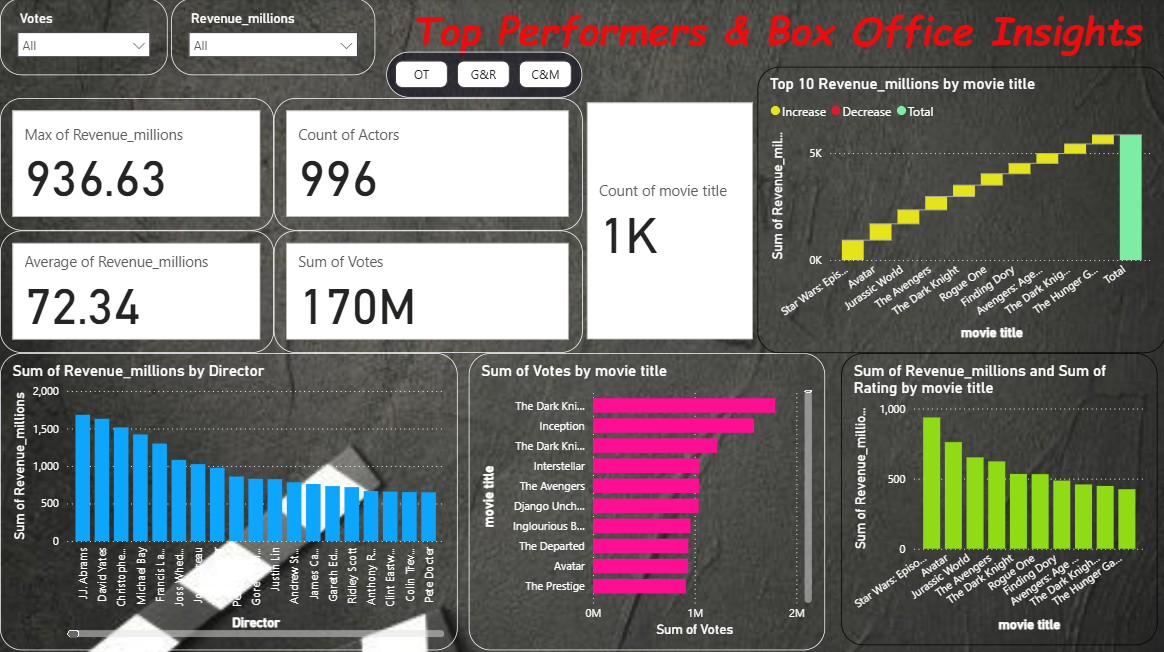

What the dashboard file says about the page in this screenshot:
{"tool":"powerbi","page":{"name":"P&B","canvas":[1280,720],"ordinal":2},"visuals":[{"type":"textbox","box":[425.4,0,854.9,90.6],"z":0},{"type":"clusteredColumnChart","fields":{"Y":["IMDB-Movie-Data.Revenue_millions"],"Category":["IMDB-Movie-Data.Director"]},"box":[0,389.7,502.2,326.6],"z":1000},{"type":"barChart","fields":{"Y":["IMDB-Movie-Data.Votes"],"Category":["IMDB-Movie-Data.movie title"]},"box":[514.6,389.7,391.1,326.6],"z":2000},{"type":"waterfallChart","title":"Top 10 Revenue_millions by movie title","fields":{"Y":["IMDB-Movie-Data.Revenue_millions"],"Category":["IMDB-Movie-Data.movie title"]},"box":[831.6,75.5,448.7,314.2],"z":3000},{"type":"lineClusteredColumnComboChart","fields":{"Category":["IMDB-Movie-Data.movie title"],"Y":["IMDB-Movie-Data.Revenue_millions"]},"box":[923.5,389.7,347.2,321.1],"z":4000},{"type":"cardVisual","fields":{"Data":["IMDB-Movie-Data.Revenue_millions"]},"box":[0,109.8,300.5,145.5],"z":5000},{"type":"cardVisual","fields":{"Data":["IMDB-Movie-Data.Revenue_millions"]},"box":[0,255.2,300.5,134.5],"z":6000},{"type":"cardVisual","fields":{"Data":["IMDB-Movie-Data.Actors"]},"box":[300.5,109.8,338.9,145.5],"z":7000},{"type":"cardVisual","fields":{"Data":["IMDB-Movie-Data.Votes"]},"box":[300.5,255.2,338.9,134.5],"z":8000},{"type":"cardVisual","fields":{"Data":["IMDB-Movie-Data.movie title"]},"box":[639.5,109.8,192.1,270.3],"z":9000},{"type":"slicer","fields":{"Values":["IMDB-Movie-Data.Revenue_millions"]},"box":[188,0,223.7,85.1],"z":10000},{"type":"slicer","fields":{"Values":["IMDB-Movie-Data.Votes"]},"box":[0,0,183.9,85.1],"z":11000},{"type":"pageNavigator","box":[424,59,215.4,50.8],"z":11001}]}

Visuals, with their boxes in screenshot pixels (x1, y1, x2, y2), scaled from the page's 1280x720 canvas onto the 1164x652 screenshot:
textbox: select_region(387, 0, 1163, 82)
clusteredColumnChart - IMDB-Movie-Data.Revenue_millions x IMDB-Movie-Data.Director: select_region(0, 353, 457, 649)
barChart - IMDB-Movie-Data.Votes x IMDB-Movie-Data.movie title: select_region(468, 353, 824, 649)
"Top 10 Revenue_millions by movie title" waterfallChart: select_region(756, 68, 1163, 353)
lineClusteredColumnComboChart - IMDB-Movie-Data.movie title x IMDB-Movie-Data.Revenue_millions: select_region(840, 353, 1156, 644)
cardVisual - IMDB-Movie-Data.Revenue_millions: select_region(0, 99, 273, 231)
cardVisual - IMDB-Movie-Data.Revenue_millions: select_region(0, 231, 273, 353)
cardVisual - IMDB-Movie-Data.Actors: select_region(273, 99, 581, 231)
cardVisual - IMDB-Movie-Data.Votes: select_region(273, 231, 581, 353)
cardVisual - IMDB-Movie-Data.movie title: select_region(582, 99, 756, 344)
slicer - IMDB-Movie-Data.Revenue_millions: select_region(171, 0, 374, 77)
slicer - IMDB-Movie-Data.Votes: select_region(0, 0, 167, 77)
pageNavigator: select_region(386, 53, 581, 99)
